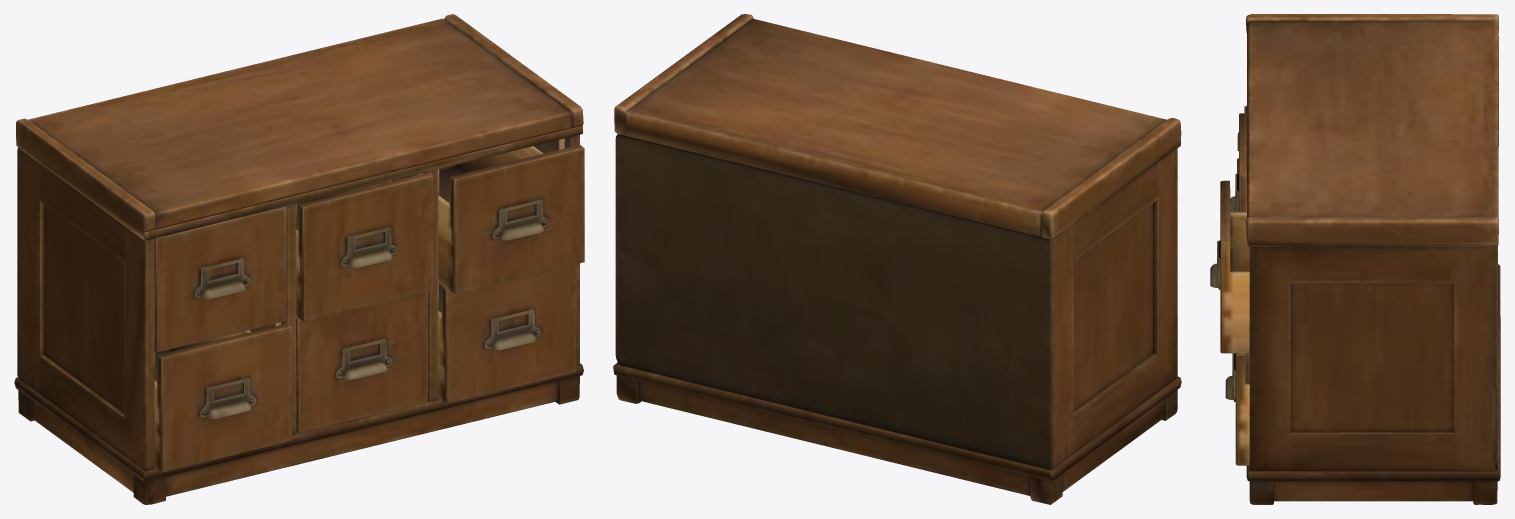
The model's file is vintage_wooden_drawer_01.glb.
3 views of the same model, side by side, from view 1: azimuth 30°, elevation 25°; view 2: azimuth 150°, elevation 25°; view 3: azimuth 270°, elevation 25° (orthographic). The views are drawn at different scales.
Parts seen in each view (by area): view 1: vintage_wooden_drawer_01_body; view 2: vintage_wooden_drawer_01_body; view 3: vintage_wooden_drawer_01_body.
Boxes of the visible parts, <box> form: vintage_wooden_drawer_01_body: <box>14,14,584,504</box>; vintage_wooden_drawer_01_body: <box>613,14,1181,504</box>; vintage_wooden_drawer_01_body: <box>1210,14,1500,504</box>.
Size of the model in its own units: 1.72 by 1.09 by 1.01.
Materials: 1 (1 with a texture image).
